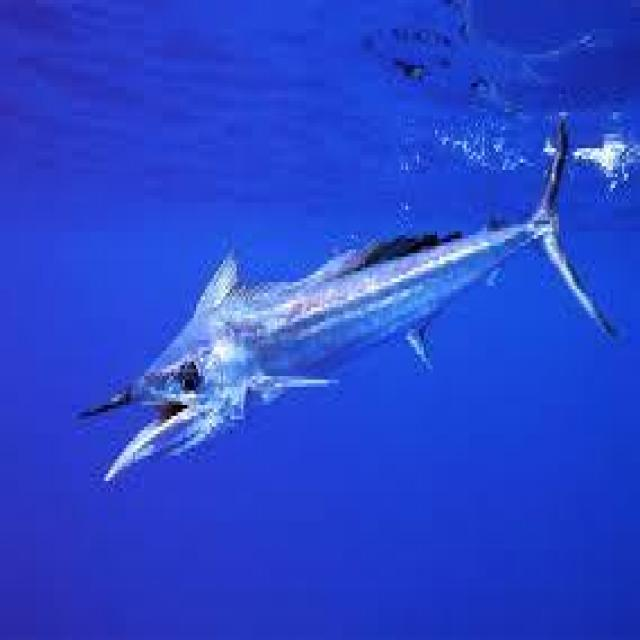Spear Fish: (72, 116, 618, 484)
